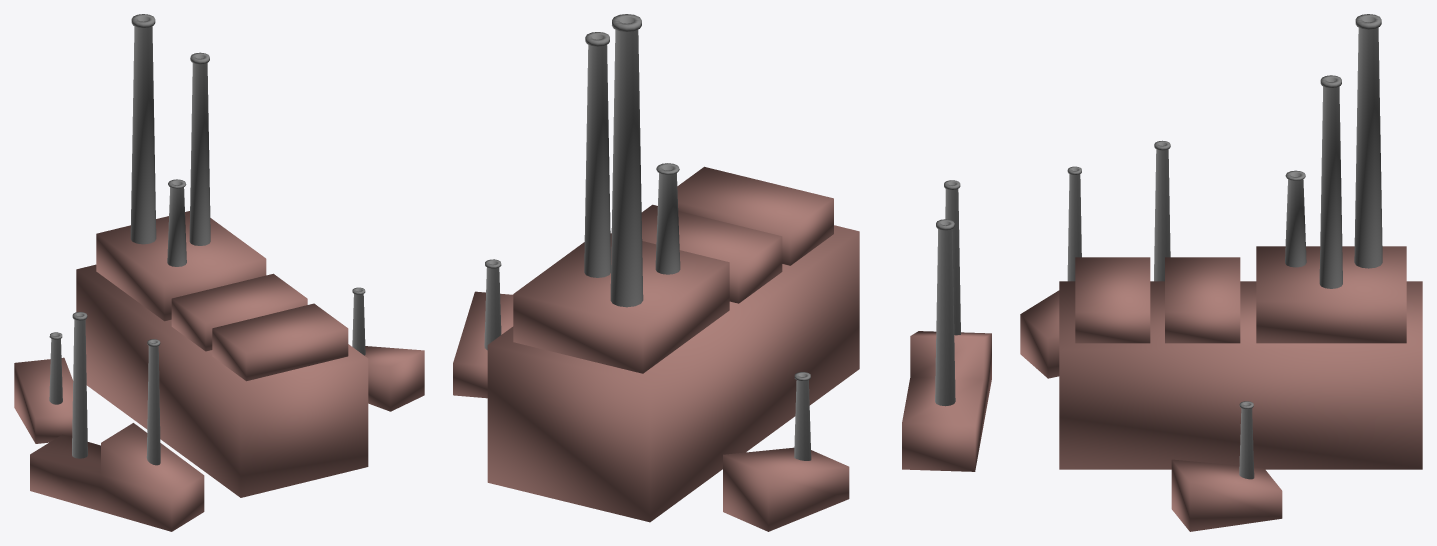
The model's file is CoalFactory_Prototype.fbx.
3 views of the same model, side by side, from view 1: azimuth 30°, elevation 25°; view 2: azimuth 150°, elevation 25°; view 3: azimuth 270°, elevation 25° (orthographic). The views are drawn at different scales.
Visible parts, largest first — view 1: Cube.008; view 2: Cube.008; view 3: Cube.008.
Part boxes in pixels (x1,y1,x2,y2): Cube.008: (14, 14, 424, 531); Cube.008: (453, 14, 991, 531); Cube.008: (1020, 14, 1422, 531).
Size of the model in its own units: 3.36 by 2.98 by 2.69.
